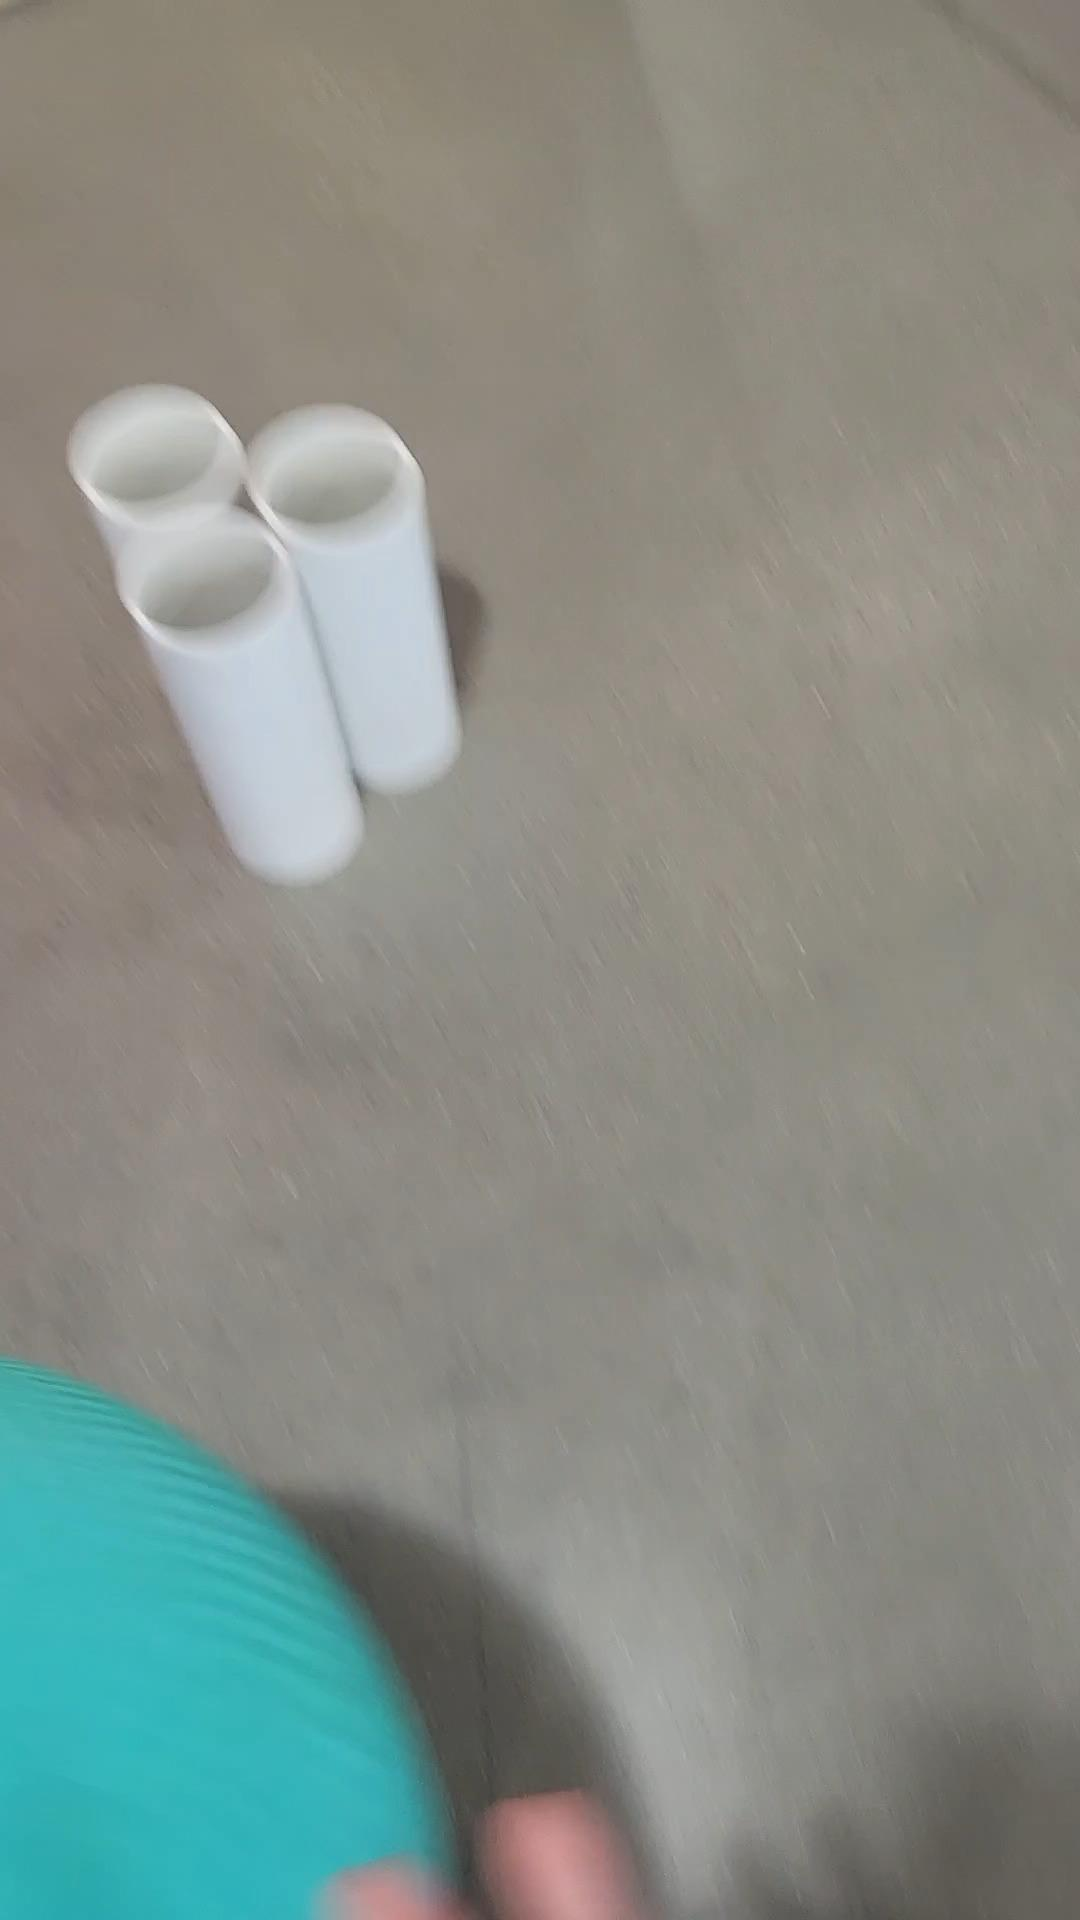algae: (11, 1356, 447, 1920)
coral: (256, 421, 462, 808), (138, 526, 348, 901), (61, 371, 232, 525)
